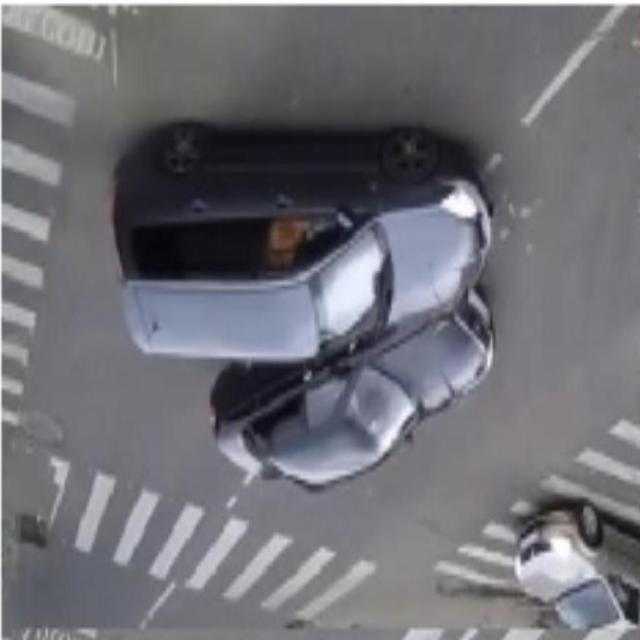moderate: (105, 118, 497, 492)
